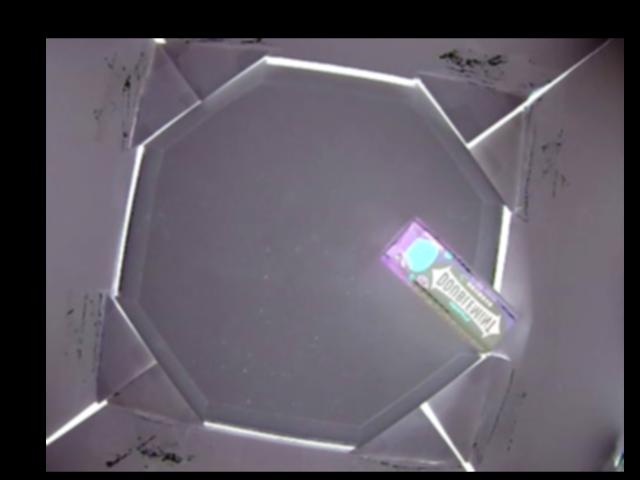Bottle: (381, 217, 513, 354)
